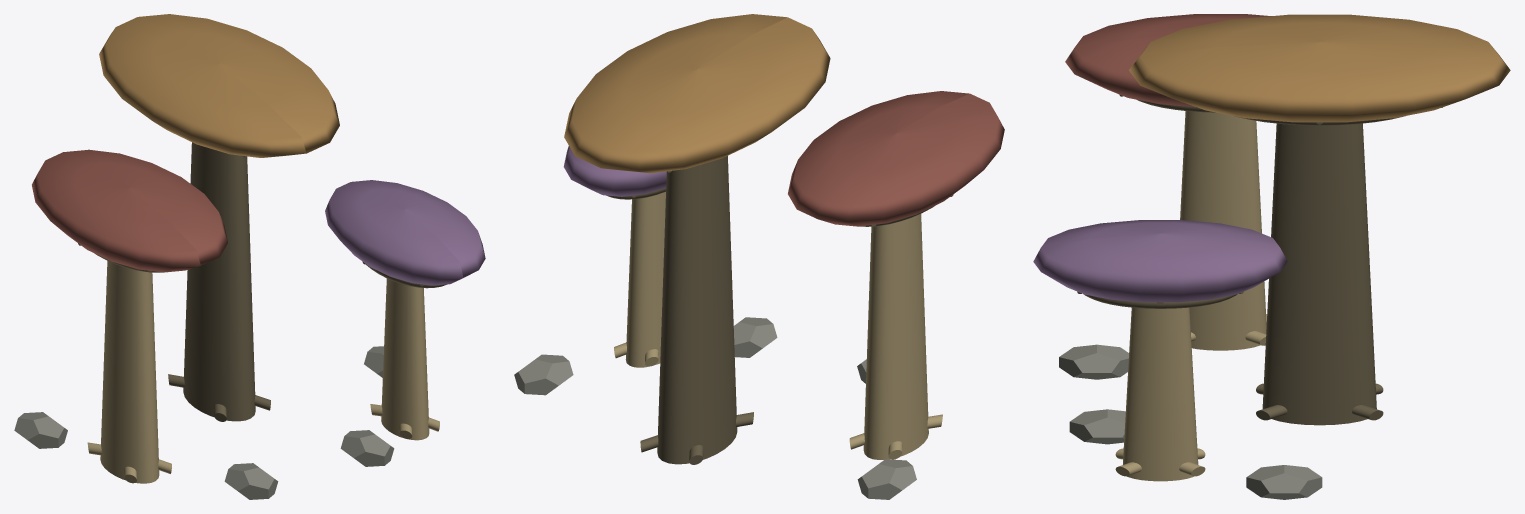
File: extra_giant_fungus.glb
3 views of the same model, side by side, from view 1: azimuth 30°, elevation 25°; view 2: azimuth 150°, elevation 25°; view 3: azimuth 270°, elevation 25° (orthographic). The views are drawn at different scales.
Visible parts, largest first — view 1: wood, stone; view 2: wood, stone; view 3: wood, stone.
Boxes of the visible parts, bbox=[...] form: wood: bbox=[32, 14, 447, 483]; stone: bbox=[14, 180, 485, 499]; wood: bbox=[564, 14, 1004, 464]; stone: bbox=[514, 146, 916, 499]; wood: bbox=[1065, 14, 1510, 481]; stone: bbox=[1033, 220, 1322, 499].
Bounding box in the file's own units: 2.8 × 2.4 × 2.8.
